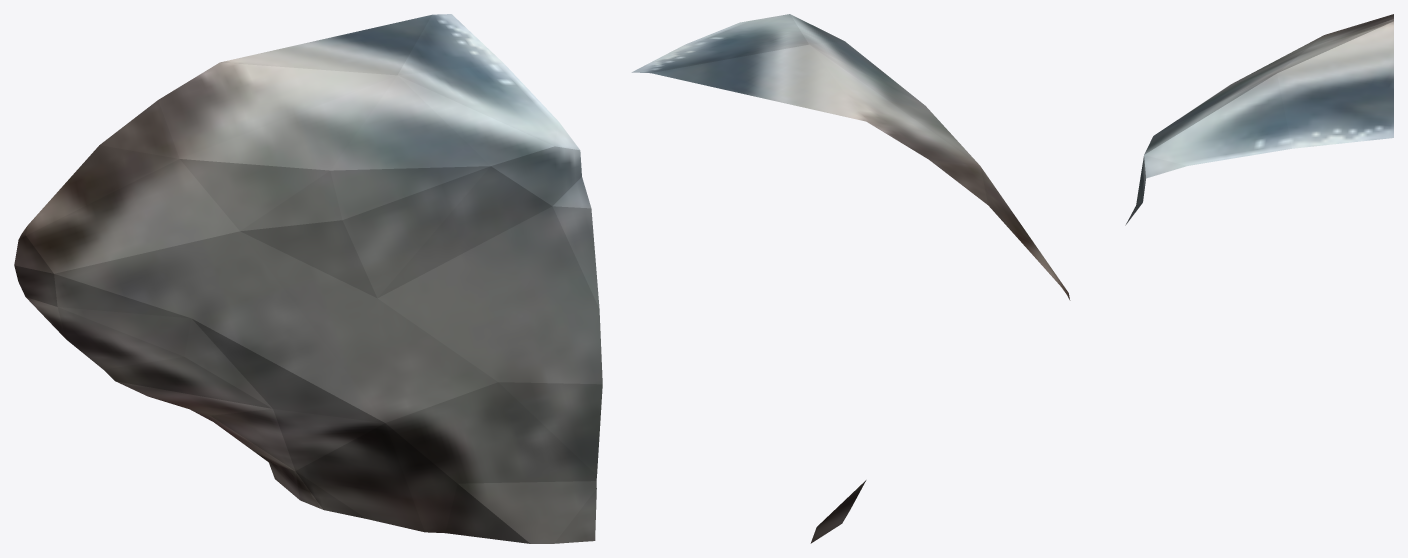
The picture shows the model from 3 angles, left to right: view 1: azimuth 30°, elevation 25°; view 2: azimuth 150°, elevation 25°; view 3: azimuth 270°, elevation 25°; orthographic projection. The views are drawn at different scales.
Bounding box in the file's own units: 0.5545 × 0.5245 × 0.3318.
Materials: 1 (1 with a texture image).
